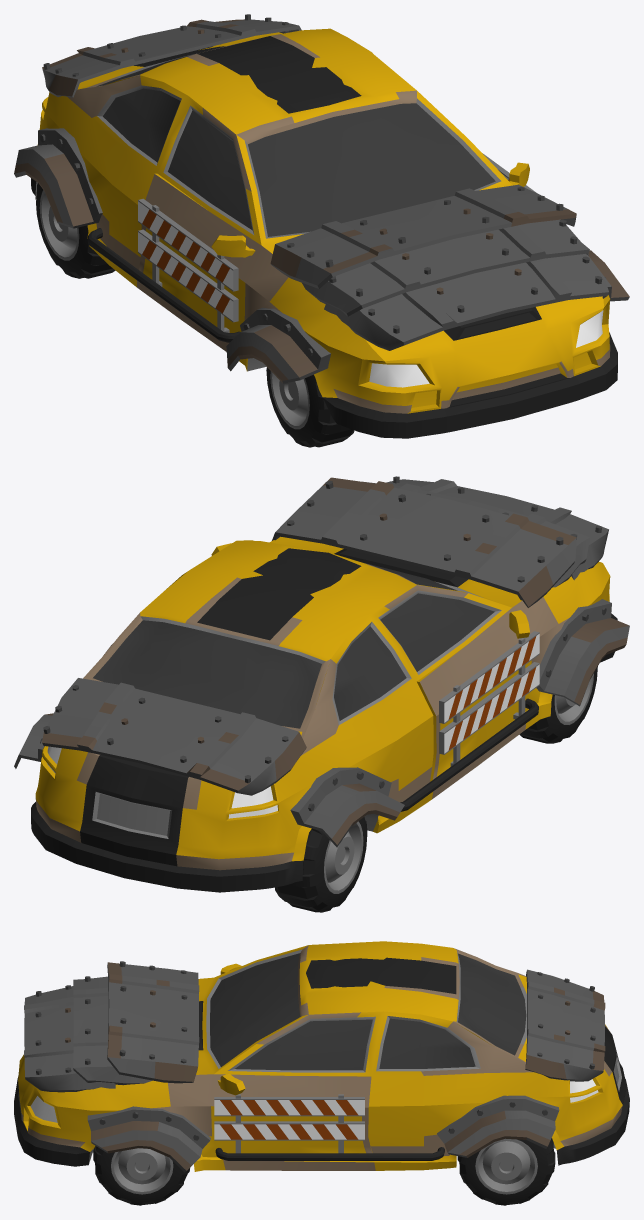
File: Vehicle_Sports_Armored.glb
3 views of the same model, one above another, from view 1: azimuth 30°, elevation 25°; view 2: azimuth 150°, elevation 25°; view 3: azimuth 270°, elevation 25° (orthographic). The views are drawn at different scales.
Parts seen in each view (by area): view 1: Sports_Armored, FrontWheel_R, BackWheels; view 2: Sports_Armored, BackWheels, FrontWheel_R; view 3: Sports_Armored, BackWheels, FrontWheel_L.
Part boxes in pixels (<box>): Sports_Armored: <box>14,14,629,438</box>; FrontWheel_R: <box>266,367,354,447</box>; BackWheels: <box>36,183,115,278</box>; Sports_Armored: <box>14,476,629,892</box>; BackWheels: <box>275,817,367,912</box>; FrontWheel_R: <box>519,666,597,743</box>; Sports_Armored: <box>14,941,629,1172</box>; BackWheels: <box>457,1138,555,1205</box>; FrontWheel_L: <box>93,1146,189,1205</box>.
Bounding box in the file's own units: 2.95 × 1.86 × 5.66.
3 materials, 1 textured.
